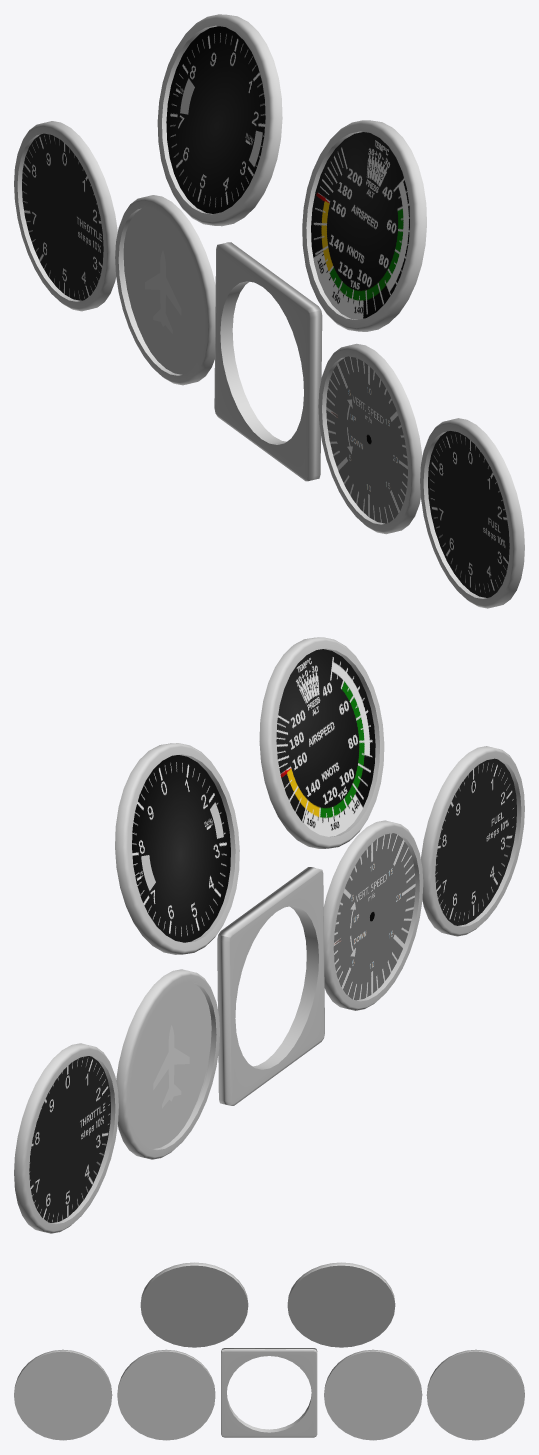
Rendered from instrumentation_static.fbx.
3 renders of one model, top to bottom at view 1: azimuth 30°, elevation 25°; view 2: azimuth 150°, elevation 25°; view 3: azimuth 270°, elevation 25°, orthographic. The views are drawn at different scales.
Visible parts, largest first — view 1: screen.001, screen, throttle indicator.001, navball frame, throttle indicator.007, throttle indicator.005, throttle indicator.006, alt indicator, speed ind, throttle indicator.004, throttle indicator.003, throttle indicator (+1 smaller); view 2: screen.001, throttle indicator.001, screen, navball frame, throttle indicator.006, throttle indicator.005, throttle indicator.007, alt indicator, speed ind, throttle indicator, throttle indicator.004, throttle indicator.003 (+1 smaller); view 3: alt indicator, speed ind, throttle indicator, throttle indicator.001, throttle indicator.004, throttle indicator.003, navball frame.
Part boxes in pixels (x1,y1,x2,y2): screen.001: (311, 132, 409, 319); screen: (166, 26, 265, 213); throttle indicator.001: (115, 195, 215, 385); navball frame: (214, 242, 322, 481); throttle indicator.007: (326, 356, 407, 523); throttle indicator.005: (428, 431, 509, 597); throttle indicator.006: (22, 133, 103, 300); alt indicator: (157, 14, 282, 226); speed ind: (302, 120, 426, 331); throttle indicator.004: (420, 418, 524, 608); throttle indicator.003: (318, 343, 422, 534); throttle indicator: (14, 121, 117, 311); screen.001: (276, 649, 375, 836); throttle indicator.001: (116, 969, 219, 1159); screen: (132, 755, 230, 942); navball frame: (217, 867, 324, 1105); throttle indicator.006: (29, 1056, 110, 1222); throttle indicator.005: (435, 758, 516, 925); throttle indicator.007: (333, 833, 415, 1000); alt indicator: (115, 743, 239, 954); speed ind: (259, 637, 384, 848); throttle indicator: (14, 1043, 118, 1233); throttle indicator.004: (421, 746, 524, 936); throttle indicator.003: (323, 820, 423, 1010); alt indicator: (287, 1262, 395, 1347); speed ind: (140, 1262, 248, 1347); throttle indicator: (426, 1349, 524, 1440); throttle indicator.001: (324, 1349, 422, 1440); throttle indicator.004: (14, 1349, 112, 1440); throttle indicator.003: (117, 1349, 215, 1440); navball frame: (221, 1348, 317, 1437).
Bounding box in the file's own units: 3.52 × 21.29 × 52.6.
